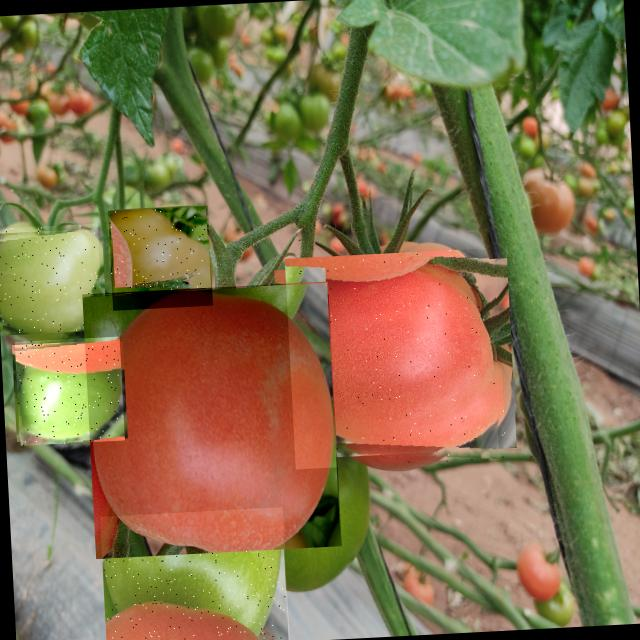Ripe Tomato: (82, 282, 342, 560), (284, 248, 506, 470)
Unripe Tomato: (100, 507, 290, 640), (15, 336, 125, 446), (0, 223, 103, 335), (108, 206, 213, 312)
